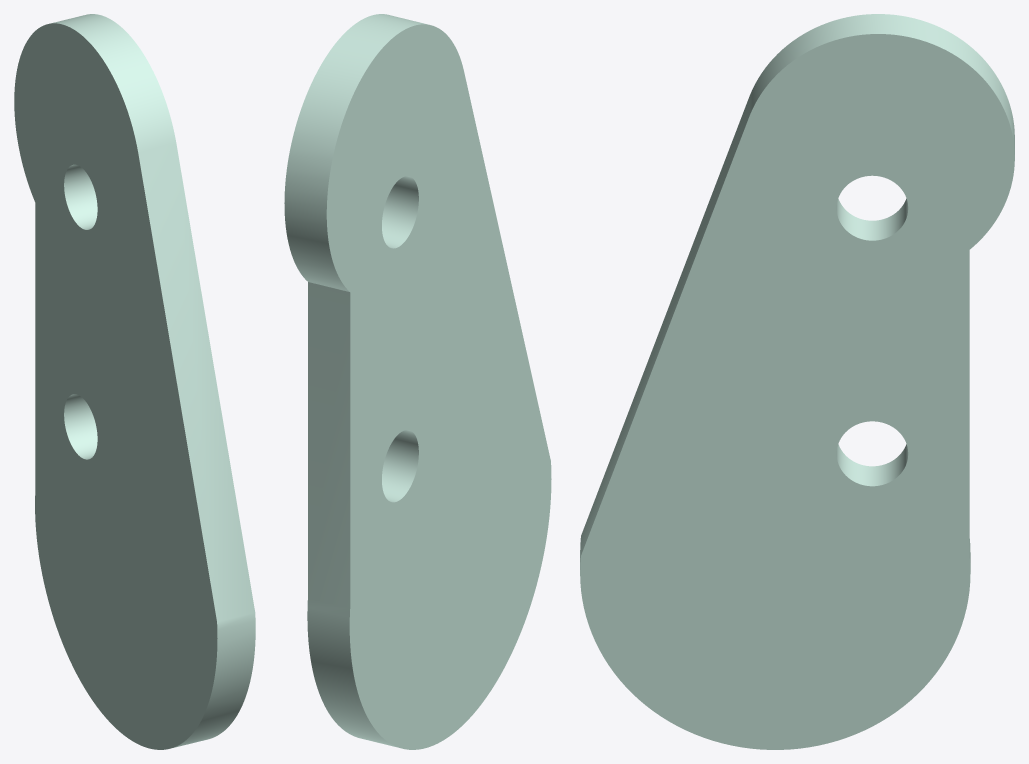
3 views of the same model, side by side, from view 1: azimuth 30°, elevation 25°; view 2: azimuth 150°, elevation 25°; view 3: azimuth 270°, elevation 25° (orthographic). The views are drawn at different scales.
Parts seen in each view (by area): view 1: Renderer Node; view 2: Renderer Node; view 3: Renderer Node.
Part boxes in pixels (x1,y1,x2,y2): Renderer Node: [14, 14, 255, 749]; Renderer Node: [284, 14, 551, 749]; Renderer Node: [580, 14, 1014, 749].
Size of the model in its own units: 0.0547 by 0.915 by 0.5036.
